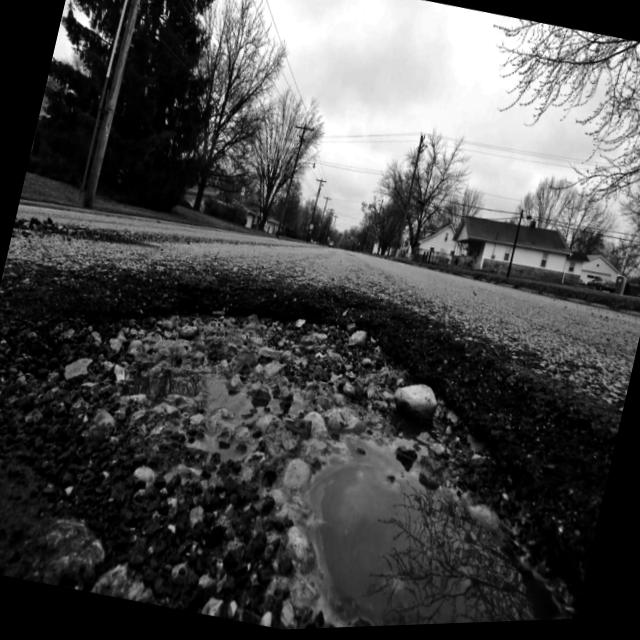pathole: (0, 172, 633, 632)
